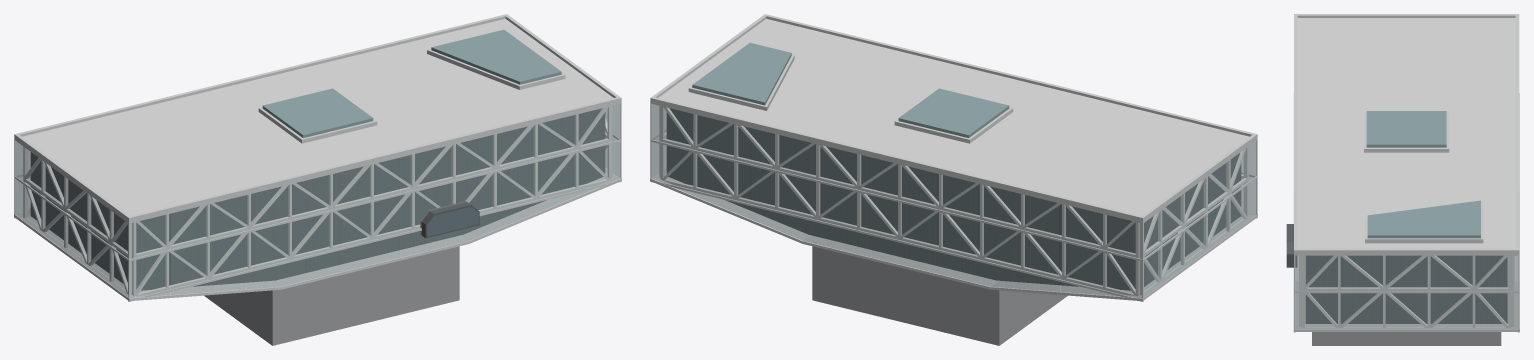
3 renders of one model, left to right at view 1: azimuth 30°, elevation 25°; view 2: azimuth 150°, elevation 25°; view 3: azimuth 270°, elevation 25°, orthographic.
Visible parts, largest first — view 1: moa__uglass, moa__roof, moa__dark, moa__trim, moa__truss, moa__core, moa__skyglass, moa__glass, moa__frame; view 2: moa__uglass, moa__roof, moa__dark, moa__trim, moa__truss, moa__core, moa__skyglass; view 3: moa__roof, moa__uglass, moa__dark, moa__trim, moa__skyglass, moa__truss, moa__core, moa__frame.
Boxes of the visible parts, bbox=[...] form: moa__uglass: bbox=[15, 104, 620, 297]; moa__roof: bbox=[22, 19, 613, 215]; moa__dark: bbox=[30, 108, 605, 290]; moa__trim: bbox=[14, 14, 621, 301]; moa__truss: bbox=[23, 106, 612, 295]; moa__core: bbox=[204, 246, 459, 345]; moa__skyglass: bbox=[262, 29, 561, 137]; moa__glass: bbox=[427, 206, 478, 236]; moa__frame: bbox=[420, 201, 479, 238]; moa__uglass: bbox=[651, 104, 1256, 298]; moa__roof: bbox=[658, 19, 1249, 215]; moa__dark: bbox=[666, 108, 1241, 290]; moa__trim: bbox=[650, 14, 1257, 301]; moa__truss: bbox=[659, 106, 1248, 295]; moa__core: bbox=[812, 246, 1067, 345]; moa__skyglass: bbox=[692, 43, 1009, 137]; moa__roof: bbox=[1297, 18, 1515, 248]; moa__uglass: bbox=[1295, 255, 1518, 328]; moa__dark: bbox=[1305, 255, 1507, 323]; moa__trim: bbox=[1293, 14, 1519, 332]; moa__skyglass: bbox=[1366, 111, 1480, 238]; moa__truss: bbox=[1299, 255, 1514, 327]; moa__core: bbox=[1312, 332, 1501, 345]; moa__frame: bbox=[1286, 224, 1297, 267].
Bounding box in the file's own units: 60.3 × 20.6 × 25.2.
9 materials, 1 textured.
